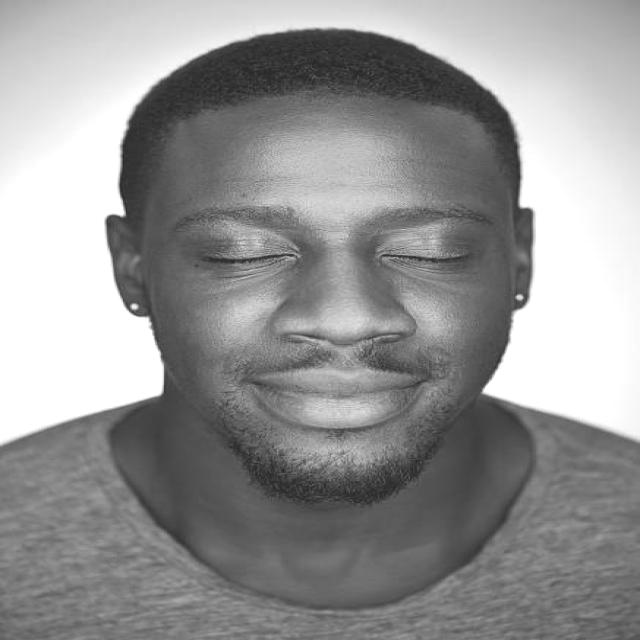real: (103, 39, 535, 503), (154, 190, 516, 302)
